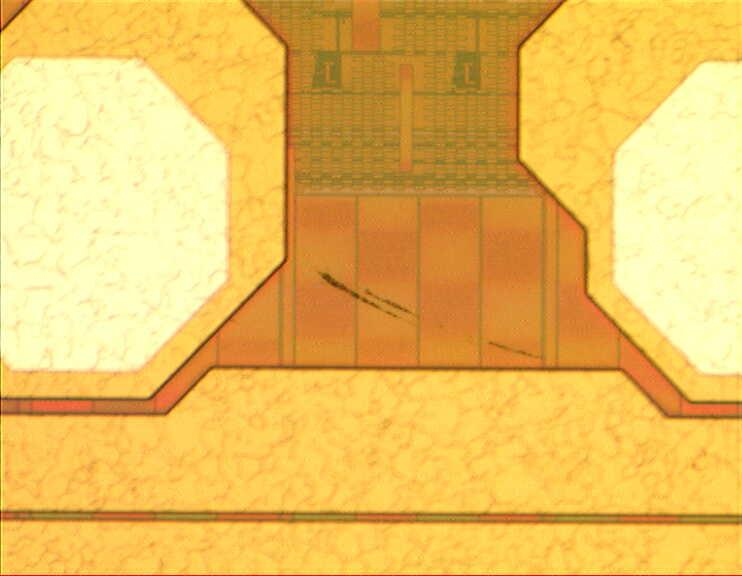SCRATCH: (310, 259, 571, 378)
